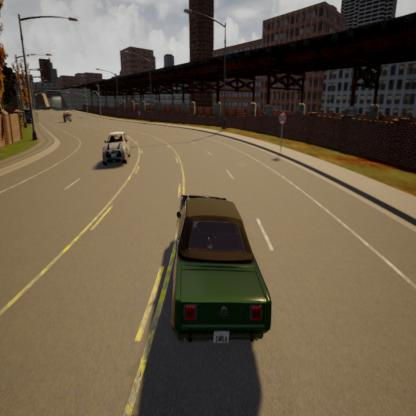Cars: (151, 182, 281, 362), (101, 127, 132, 168), (61, 108, 74, 124)
